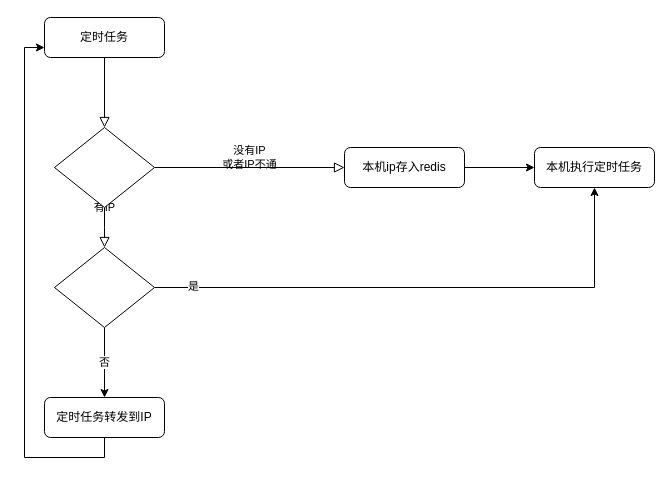
Some shapes in this 672 by 483 pixel diagram are drawn without their labels. Here are the shapes that lost their labels. From the top down, the centre of each, then its label:
At [104,167]: "redis执行获取执行机IP".
At [104,287]: "IP是否本机？".
